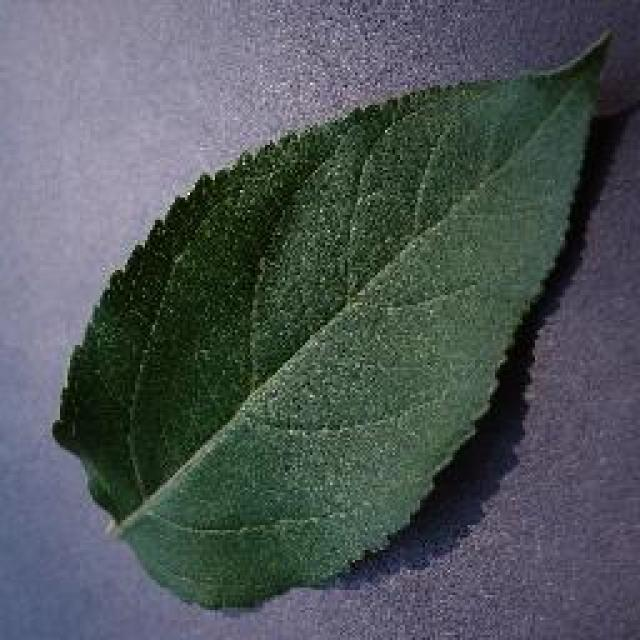apple healthy: (48, 25, 612, 613)
